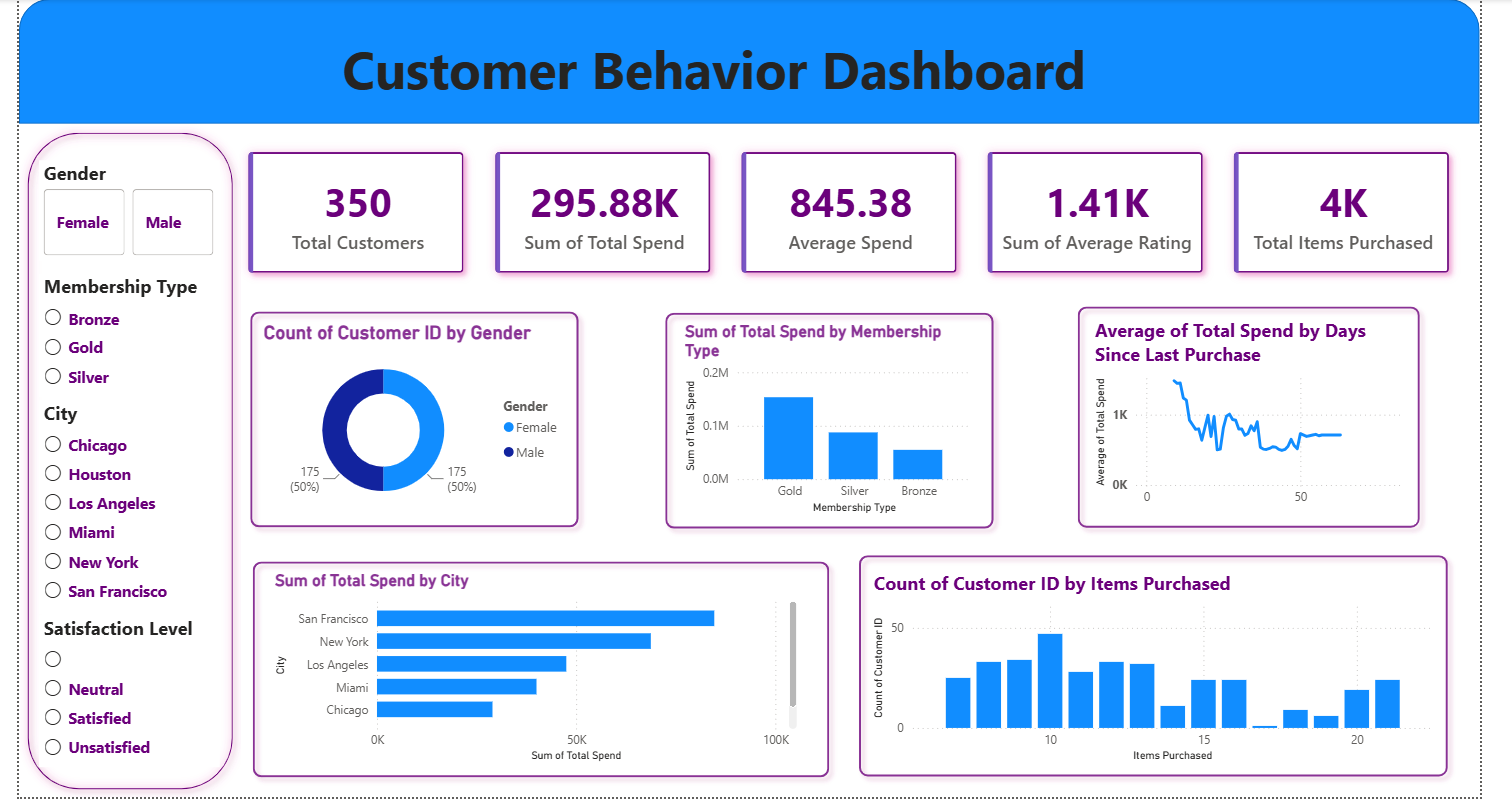

Layout of this report page (visuals, bound fields, positions):
{"tool":"powerbi","page":{"name":"Customer Overview Dashboard","canvas":[1500,820],"ordinal":0},"visuals":[{"type":"shape","box":[0,0,1499.9,128.1],"z":0},{"type":"textbox","box":[228.4,29.2,970.7,86.3],"z":1000},{"type":"cardVisual","fields":{"Data":["E-commerce Customer Behavior - Sheet1.Total Customers","Sum(E-commerce Customer Behavior - Sheet1.Total Spend)","E-commerce Customer Behavior - Sheet1.Average Spend","Sum(E-commerce Customer Behavior - Sheet1.Average Rating)","E-commerce Customer Behavior - Sheet1.Total Items Purchased"]},"box":[206.1,128.1,1293.8,182.4],"z":2000},{"type":"clusteredColumnChart","fields":{"Category":["E-commerce Customer Behavior - Sheet1.Membership Type"],"Y":["Sum(E-commerce Customer Behavior - Sheet1.Total Spend)"]},"box":[679.6,331.5,303.6,201.9],"z":3000},{"type":"clusteredBarChart","fields":{"Category":["E-commerce Customer Behavior - Sheet1.City"],"Y":["Sum(E-commerce Customer Behavior - Sheet1.Total Spend)"]},"box":[257.6,586.3,545.9,201.9],"z":4000},{"type":"donutChart","fields":{"Category":["E-commerce Customer Behavior - Sheet1.Gender"],"Y":["CountNonNull(E-commerce Customer Behavior - Sheet1.Customer ID)"]},"box":[246.5,331.5,321.7,201.9],"z":5000},{"type":"shape","box":[853.7,562.6,622.5,245.1],"z":6000},{"type":"shape","box":[228.4,312,355.1,239.5],"z":7000},{"type":"shape","box":[1077.9,306.4,369.1,245.1],"z":8000},{"type":"shape","box":[0,128.1,228.4,692.2],"z":9000},{"type":"advancedSlicerVisual","fields":{"Values":["E-commerce Customer Behavior - Sheet1.Gender"]},"box":[20.9,165.7,185.2,103.1],"z":10000},{"type":"listSlicer","fields":{"Values":["E-commerce Customer Behavior - Sheet1.Membership Type"]},"box":[20.9,282.7,185.2,126.7],"z":11000},{"type":"listSlicer","fields":{"Values":["E-commerce Customer Behavior - Sheet1.City"]},"box":[20.9,412.2,185.2,220],"z":12000},{"type":"listSlicer","fields":{"Values":["E-commerce Customer Behavior - Sheet1.Satisfaction Level"]},"box":[20.9,632.3,185.2,156],"z":13000},{"type":"lineChart","fields":{"Category":["E-commerce Customer Behavior - Sheet1.Days Since Last Purchase"],"Y":["Avg(E-commerce Customer Behavior - Sheet1.Total Spend)"]},"box":[1100.2,327.3,325.9,201.9],"z":13001},{"type":"shape","box":[231.2,568.2,610,239.5],"z":13002},{"type":"shape","box":[654.6,313.4,355.1,239.5],"z":13003},{"type":"clusteredColumnChart","fields":{"Category":["E-commerce Customer Behavior - Sheet1.Items Purchased"],"Y":["CountNonNull(E-commerce Customer Behavior - Sheet1.Customer ID)"]},"box":[873.2,586.3,583.5,201.9],"z":13004}]}

Visuals, with their boxes in screenshot pixels (x1, y1, x2, y2):
shape: bbox=(16, 0, 1511, 120)
textbox: bbox=(245, 21, 1217, 108)
cardVisual - E-commerce Customer Behavior - Sheet1.Total Customers x Sum(E-commerce Customer Behavior - Sheet1.Total Spend): bbox=(222, 120, 1511, 303)
clusteredColumnChart - E-commerce Customer Behavior - Sheet1.Membership Type x Sum(E-commerce Customer Behavior - Sheet1.Total Spend): bbox=(696, 324, 1000, 526)
clusteredBarChart - E-commerce Customer Behavior - Sheet1.City x Sum(E-commerce Customer Behavior - Sheet1.Total Spend): bbox=(274, 579, 820, 782)
donutChart - E-commerce Customer Behavior - Sheet1.Gender x CountNonNull(E-commerce Customer Behavior - Sheet1.Customer ID): bbox=(263, 324, 585, 526)
shape: bbox=(871, 556, 1494, 801)
shape: bbox=(245, 305, 600, 544)
shape: bbox=(1095, 299, 1465, 544)
shape: bbox=(16, 120, 245, 801)
advancedSlicerVisual - E-commerce Customer Behavior - Sheet1.Gender: bbox=(37, 158, 222, 261)
listSlicer - E-commerce Customer Behavior - Sheet1.Membership Type: bbox=(37, 275, 222, 402)
listSlicer - E-commerce Customer Behavior - Sheet1.City: bbox=(37, 405, 222, 625)
listSlicer - E-commerce Customer Behavior - Sheet1.Satisfaction Level: bbox=(37, 625, 222, 782)
lineChart - E-commerce Customer Behavior - Sheet1.Days Since Last Purchase x Avg(E-commerce Customer Behavior - Sheet1.Total Spend): bbox=(1118, 320, 1444, 522)
shape: bbox=(247, 561, 858, 801)
shape: bbox=(671, 306, 1027, 546)
clusteredColumnChart - E-commerce Customer Behavior - Sheet1.Items Purchased x CountNonNull(E-commerce Customer Behavior - Sheet1.Customer ID): bbox=(890, 579, 1475, 782)
